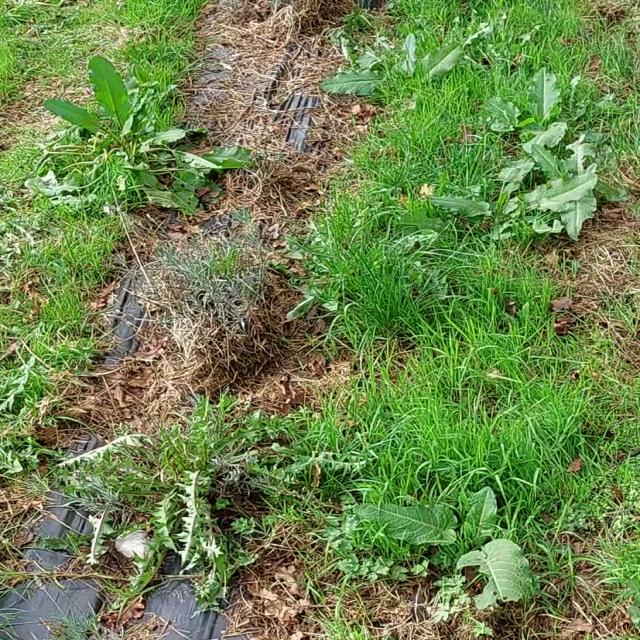organic waste: (42, 43, 250, 216), (363, 471, 573, 618), (316, 7, 526, 98), (411, 154, 627, 241), (486, 59, 606, 162)
